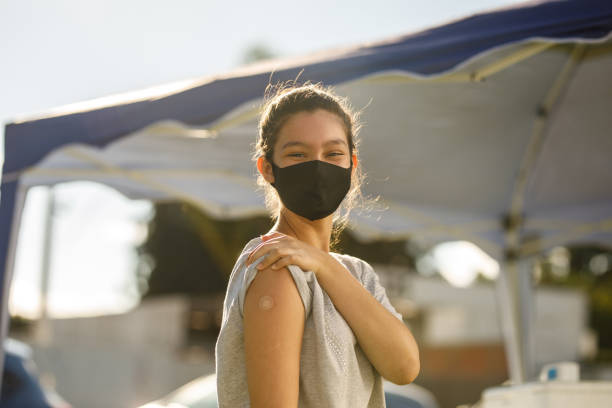with mask: (245, 93, 358, 222)
